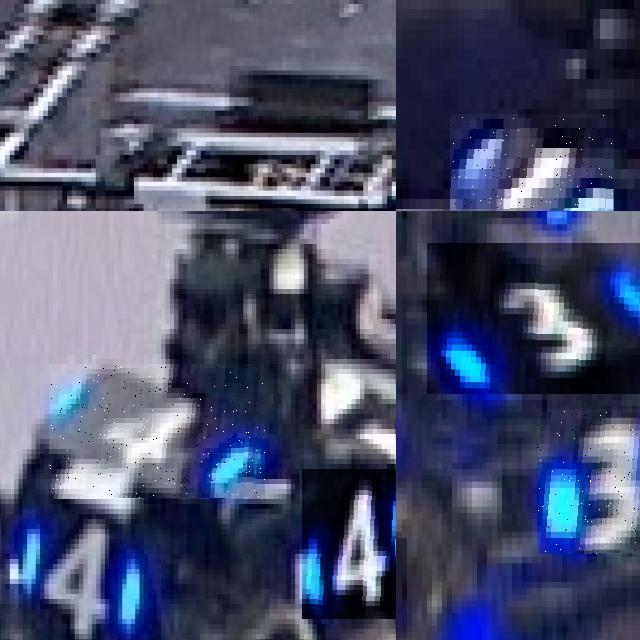B1: (450, 114, 613, 211)
B3: (427, 243, 640, 393), (537, 409, 640, 553)
B4: (49, 364, 265, 499), (5, 499, 144, 639), (301, 469, 396, 619)
